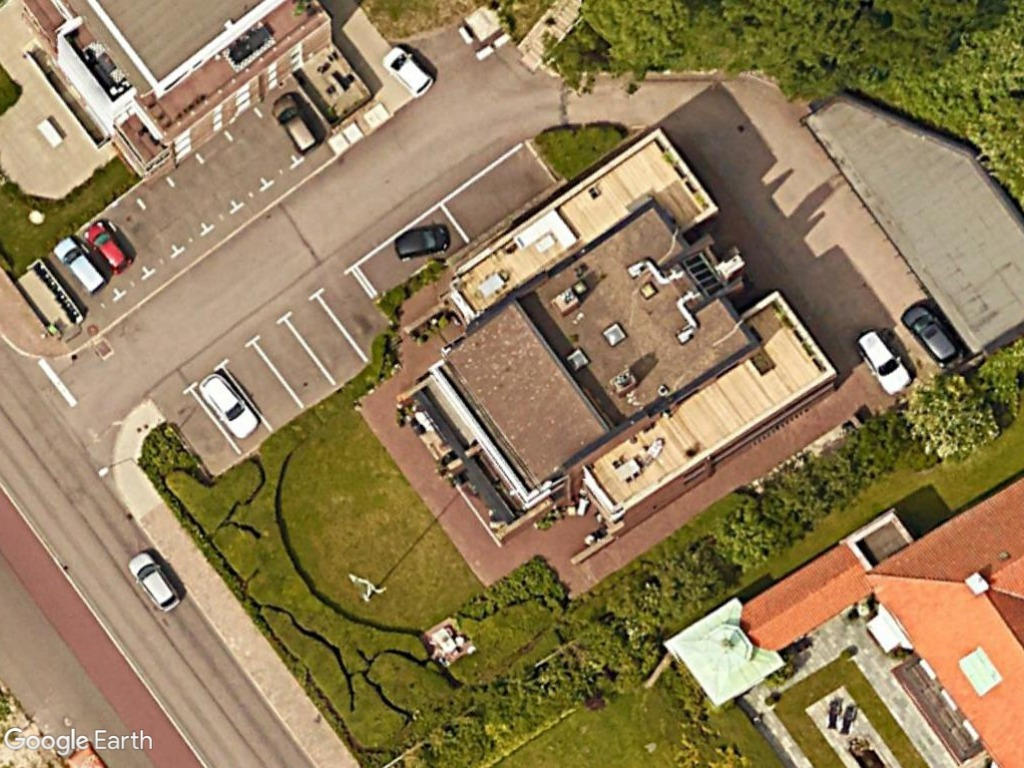car: (899, 301, 968, 370), (854, 324, 916, 399), (196, 372, 262, 442), (125, 548, 186, 616), (267, 92, 326, 155), (51, 236, 110, 298), (380, 40, 436, 101), (82, 218, 134, 277), (392, 221, 451, 264)
